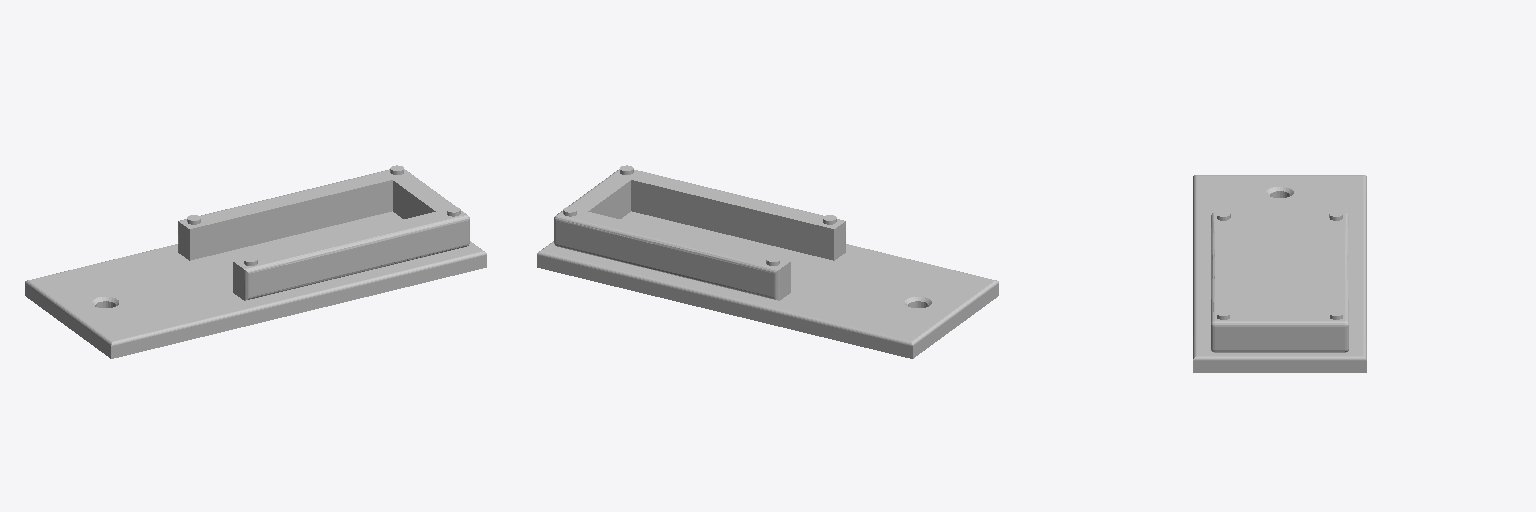
The model's file is Slider Crank Mechanism_2.obj.
3 views of the same model, side by side, from view 1: azimuth 30°, elevation 25°; view 2: azimuth 150°, elevation 25°; view 3: azimuth 270°, elevation 25° (orthographic).
Parts seen in each view (by area): view 1: mesh 1 Slider Crank Mechanism_2, mesh 3 Bolt-2-solid1 face; view 2: mesh 1 Slider Crank Mechanism_2, mesh 3 Bolt-2-solid1 face; view 3: mesh 1 Slider Crank Mechanism_2, mesh 3 Bolt-2-solid1 face.
Part boxes in pixels (x1,y1,x2,y2): mesh 1 Slider Crank Mechanism_2: (25, 211, 486, 358); mesh 3 Bolt-2-solid1 face: (178, 169, 469, 300); mesh 1 Slider Crank Mechanism_2: (537, 211, 998, 358); mesh 3 Bolt-2-solid1 face: (554, 169, 845, 300); mesh 1 Slider Crank Mechanism_2: (1193, 175, 1366, 372); mesh 3 Bolt-2-solid1 face: (1211, 213, 1348, 352).
Bounding box in the file's own units: 0.25 × 0.0325 × 0.1.